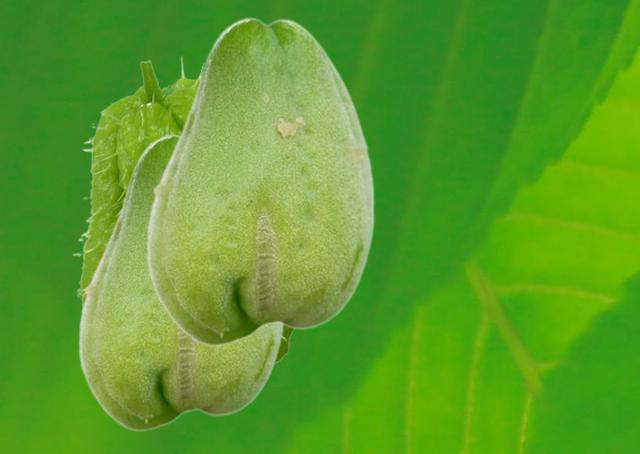sayote: (145, 16, 374, 345), (72, 55, 295, 363), (77, 133, 284, 430)
